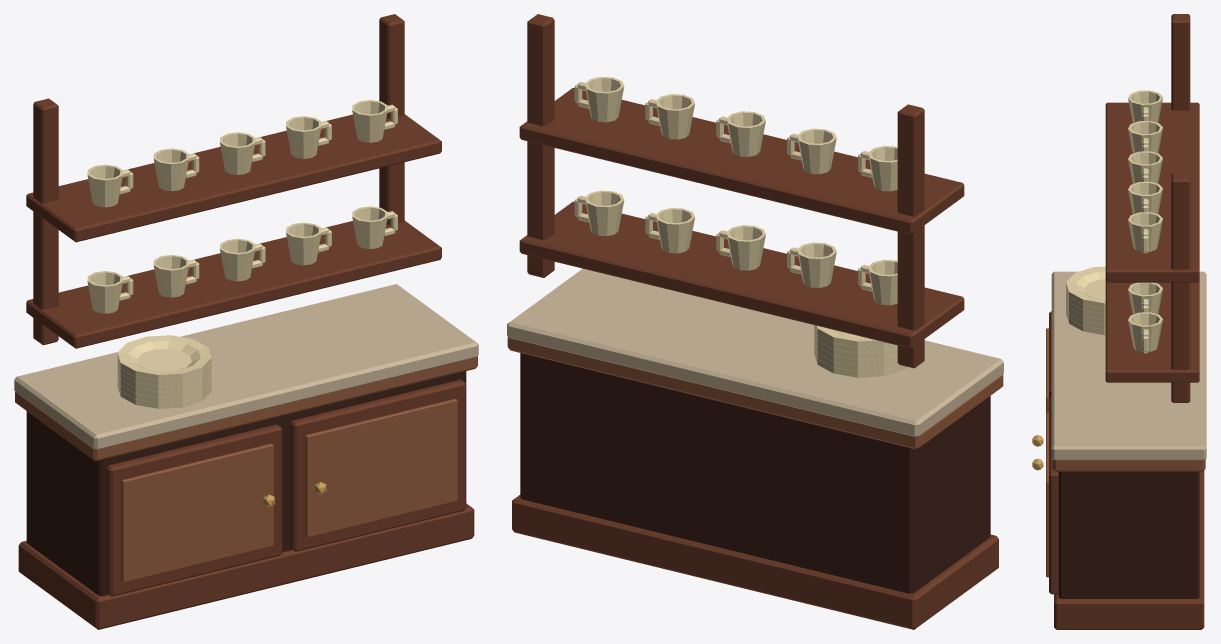
The model's file is dish_rack_02.glb.
3 views of the same model, side by side, from view 1: azimuth 30°, elevation 25°; view 2: azimuth 150°, elevation 25°; view 3: azimuth 270°, elevation 25° (orthographic). The views are drawn at different scales.
Visible parts, largest first — view 1: Base, Base_Worktop, Shelf, Shelf_001, Base_Body, Base_Plinth, Base_Top, Post, Post_001, Plate_Dish_005, Cup_Cup_001, Cup_Cup_006 (+8 smaller); view 2: Base_Body, Base_Worktop, Shelf_001, Shelf, Base_Plinth, Base_Top, Post, Post_001, Cup_Cup_008, Cup_Cup_002, Cup_Cup_007, Cup_Cup_009 (+7 smaller); view 3: Base_Body, Base_Worktop, Shelf_001, Shelf, Base_Plinth, Post_001, Base, Post, Base_Top, Plate_Dish_005, Cup_Cup_004, Cup_Cup_009 (+5 smaller).
Part boxes in pixels (x1,y1,x2,y2): Base: (106, 379, 465, 596); Base_Worktop: (14, 284, 478, 449); Shelf: (26, 221, 441, 348); Shelf_001: (26, 114, 441, 242); Base_Body: (26, 371, 466, 596); Base_Plinth: (18, 503, 474, 629); Base_Top: (15, 356, 477, 461); Post: (33, 98, 58, 345); Post_001: (379, 14, 404, 225); Plate_Dish_005: (117, 335, 211, 380); Cup_Cup_001: (153, 255, 189, 297); Cup_Cup_006: (153, 148, 189, 191); Base_Body: (520, 353, 990, 593); Base_Worktop: (507, 268, 1003, 436); Shelf_001: (519, 88, 964, 234); Shelf: (519, 201, 964, 348); Base_Plinth: (512, 495, 998, 629); Base_Top: (507, 337, 1003, 449); Post: (897, 104, 924, 368); Post_001: (527, 14, 554, 277); Cup_Cup_008: (655, 94, 694, 139); Cup_Cup_002: (726, 225, 765, 270); Cup_Cup_007: (726, 111, 765, 156); Cup_Cup_009: (584, 76, 624, 122); Base_Body: (1058, 471, 1199, 598); Base_Worktop: (1051, 271, 1206, 459); Shelf_001: (1105, 102, 1199, 282); Shelf: (1105, 281, 1199, 382); Base_Plinth: (1054, 470, 1204, 629); Post_001: (1171, 173, 1190, 402); Base: (1032, 311, 1058, 594); Post: (1171, 14, 1190, 110); Base_Top: (1052, 459, 1205, 471); Plate_Dish_005: (1066, 266, 1105, 308); Cup_Cup_004: (1128, 312, 1162, 351); Cup_Cup_009: (1128, 212, 1162, 251).
Size of the model in its own units: 1.78 by 2.1 by 0.7418.
